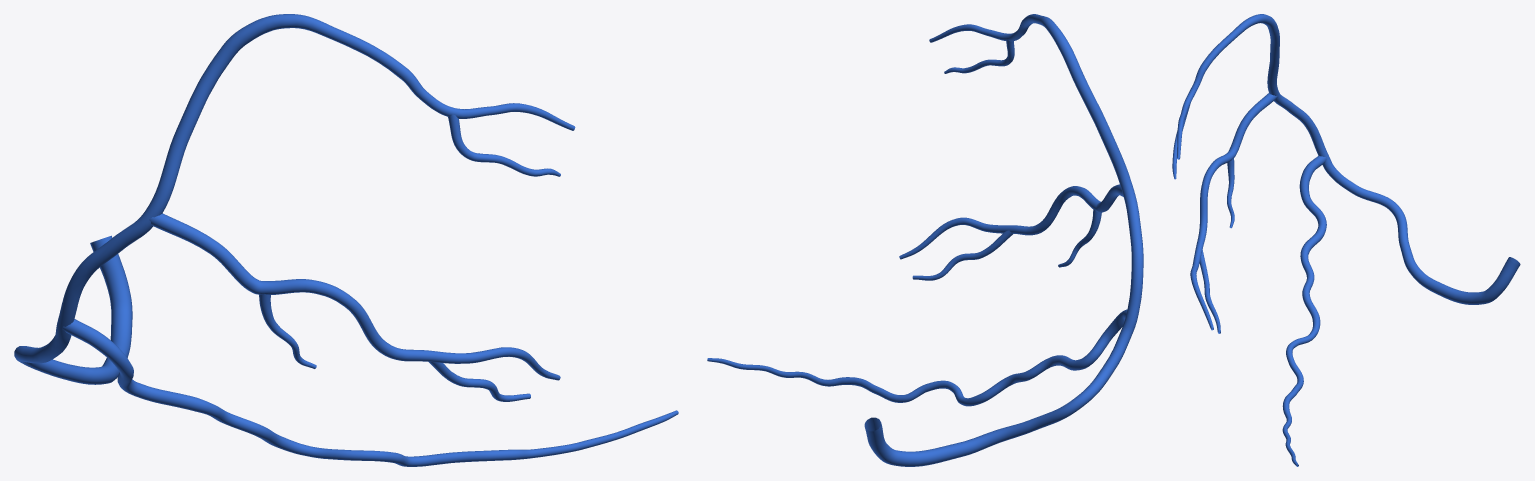
The model's file is circulatorio.glb.
3 views of the same model, side by side, from view 1: azimuth 30°, elevation 25°; view 2: azimuth 150°, elevation 25°; view 3: azimuth 270°, elevation 25° (orthographic). The views are drawn at different scales.
Parts seen in each view (by area): view 1: ????????; view 2: ????????; view 3: ????????.
Boxes of the visible parts, x1=… form: ????????: x1=14, y1=14, x2=678, y2=466; ????????: x1=707, y1=14, x2=1143, y2=466; ????????: x1=1172, y1=14, x2=1520, y2=466.
Bounding box in the file's own units: 0.078 × 0.0666 × 0.0644.
